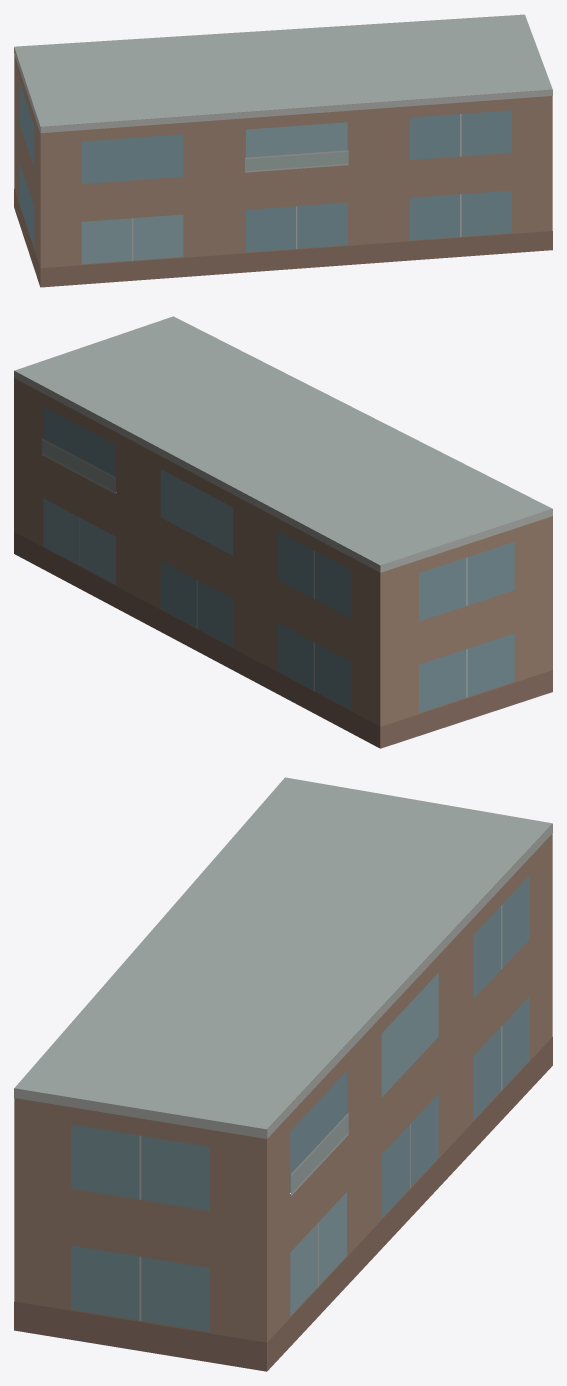
File: survey-upis-32678311.glb
The picture shows the model from 3 angles, top to bottom: view 1: azimuth 30°, elevation 25°; view 2: azimuth 150°, elevation 25°; view 3: azimuth 270°, elevation 25°; orthographic projection. The views are drawn at different scales.
Visible parts, largest first — view 1: survey-upis-32678311.tmp; view 2: survey-upis-32678311.tmp; view 3: survey-upis-32678311.tmp.
Boxes of the visible parts, x1,y1,x2,y2 form: survey-upis-32678311.tmp: (14,14,552,287); survey-upis-32678311.tmp: (14,316,552,748); survey-upis-32678311.tmp: (14,777,552,1371).
Size of the model in its own units: 19.03 by 6.1 by 12.3.
